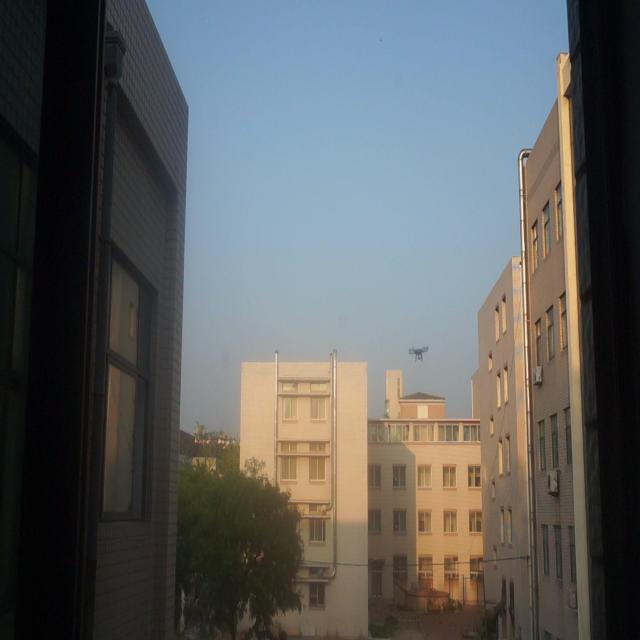drone: (408, 342, 430, 362)
